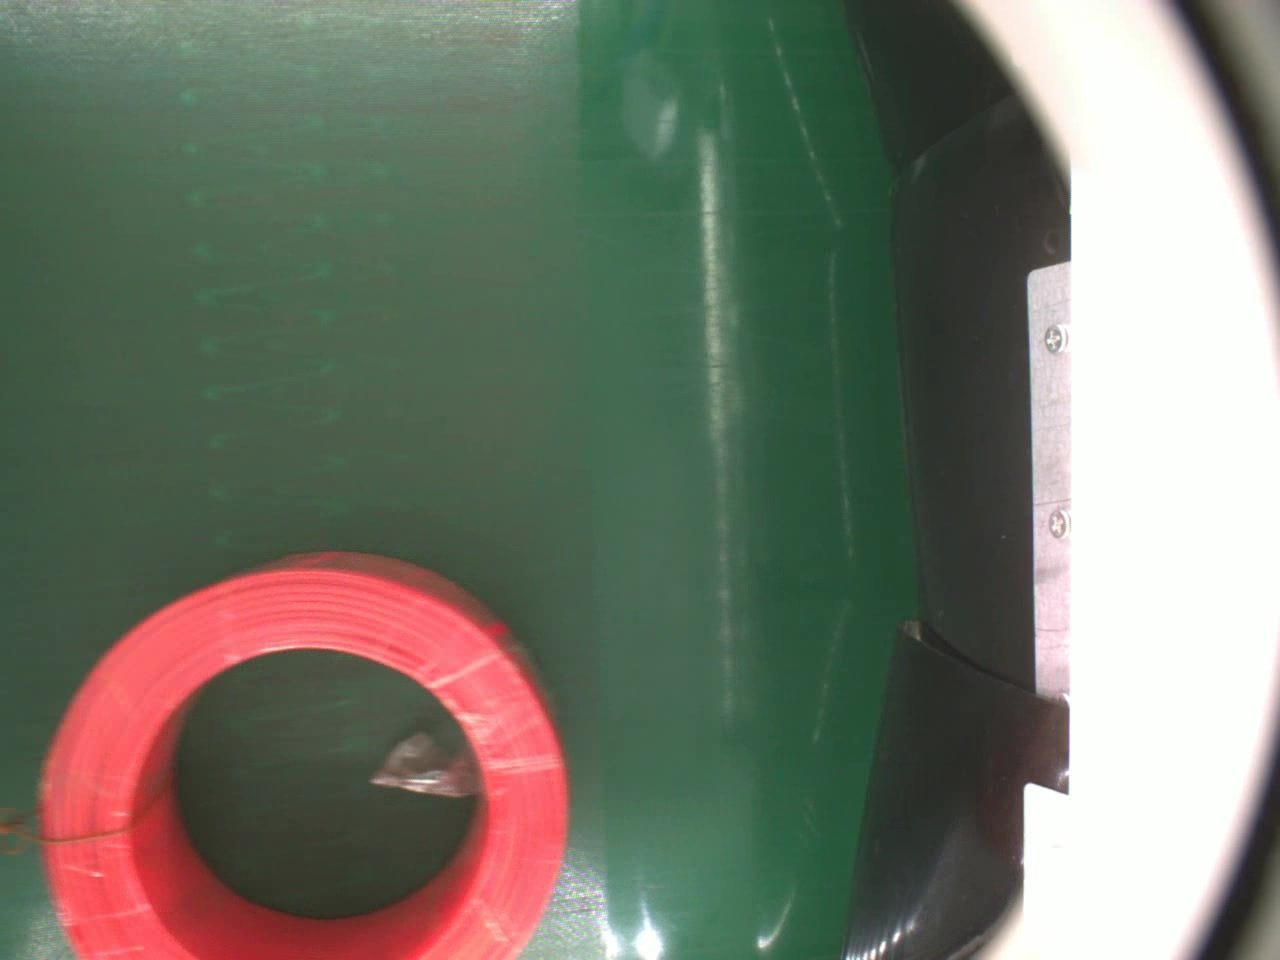red: (39, 549, 579, 960)
